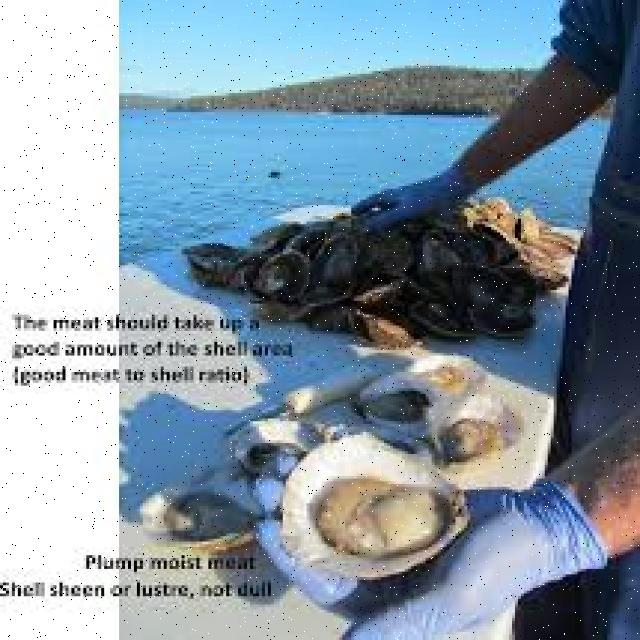Oyster-Closed: (426, 266, 538, 330), (198, 242, 308, 306), (407, 270, 478, 344), (413, 223, 518, 271), (181, 243, 265, 290), (309, 228, 364, 298), (350, 295, 417, 352), (358, 226, 414, 287), (512, 246, 576, 288), (510, 194, 552, 256), (417, 229, 465, 281), (459, 198, 521, 238), (267, 223, 334, 256), (536, 217, 586, 261), (469, 224, 519, 266), (250, 220, 306, 252), (352, 280, 404, 309)
Oyster-Open: (280, 435, 469, 582), (139, 475, 262, 560), (439, 394, 526, 490), (224, 416, 347, 481), (345, 363, 435, 434), (396, 347, 489, 396)
